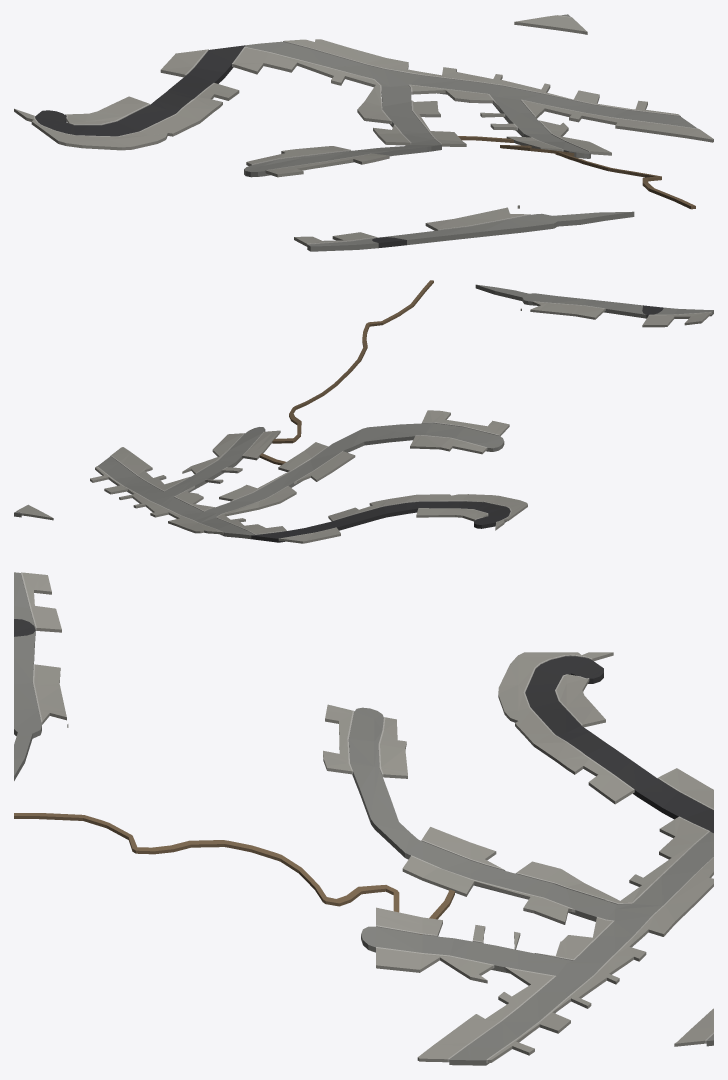
3 renders of one model, top to bottom at view 1: azimuth 30°, elevation 25°; view 2: azimuth 150°, elevation 25°; view 3: azimuth 270°, elevation 25°, orthographic. The views are drawn at different scales.
Size of the model in its own units: 147 by 44.97 by 146.
